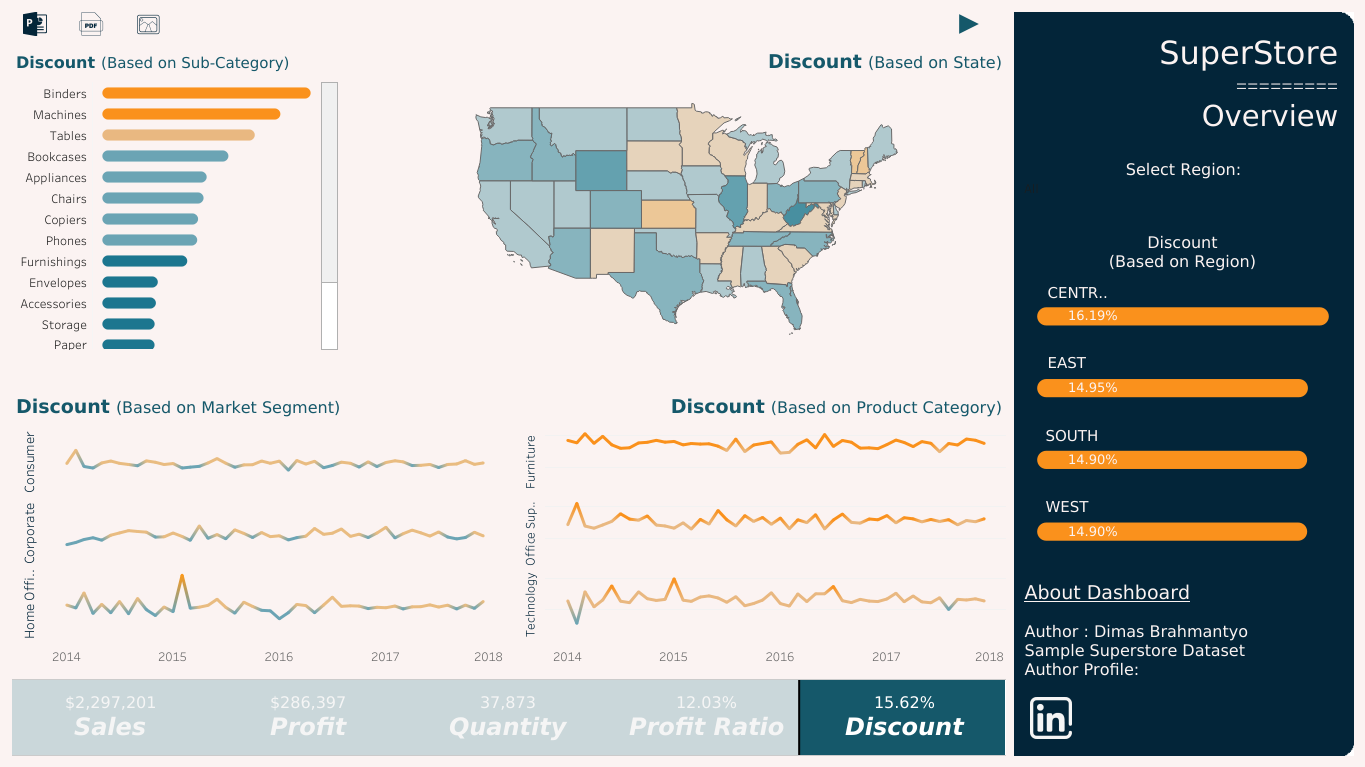

The page's visual inventory and layout, read from the dashboard file:
{"tool":"tableau","page":{"name":"Dashboard 1 - Overview","canvas":[1366,768],"ordinal":0},"visuals":[{"type":"dashboard-object","box":[8,8,54,32]},{"type":"dashboard-object","box":[62,8,60,32]},{"type":"dashboard-object","box":[122,8,53,32]},{"type":"worksheet","title":"Next","mark":"Shape","rows":["Calculation_132293265469534221"],"box":[928,8,82,32]},{"type":"image","param":"Image/2.png","box":[1010,8,348,752]},{"type":"text","box":[1025,21,316,125]},{"type":"worksheet","title":"Sub Category Chart","mark":"Line","rows":["Sub-Category"],"box":[8,40,334,313]},{"type":"worksheet","title":"Based on State Map Chart","mark":"Automatic","box":[374,40,636,313]},{"type":"filter","title":"Based on State Map Chart","param":"[federated.1u37z9d020ffhv1e04nla11qurtp].[a1. Select Region Set]","box":[1022,159,323,55]},{"type":"worksheet","title":"Region Button","mark":"Line","rows":["Region"],"box":[1023,227,319,340]},{"type":"text","box":[1045,278,66,30]},{"type":"text","box":[1045,348,100,30]},{"type":"worksheet","title":"Market Segment Chart","mark":"Automatic","rows":["Segment","Calculation_1180506078081609731"],"cols":["Order Date"],"box":[8,385,501,290]},{"type":"worksheet","title":"Product Category Chart","mark":"Automatic","rows":["Category","Calculation_1180506078081609731"],"cols":["Order Date"],"box":[509,385,501,290]},{"type":"text","box":[1043,421,100,30]},{"type":"text","box":[1043,492,100,30]},{"type":"text","box":[1022,577,272,106]},{"type":"worksheet","title":"Field Button","mark":"Shape","box":[8,675,1002,85]},{"type":"worksheet","title":"LinkedIn","mark":"Shape","rows":["Calculation_1125055507973922816"],"box":[1022,691,57,53]}]}

Visuals, with their boxes in screenshot pixels (x1, y1, x2, y2), scaled from the page's 1366x768 canvas onto the 1365x767 screenshot:
dashboard-object: box=[8, 8, 62, 40]
dashboard-object: box=[62, 8, 122, 40]
dashboard-object: box=[122, 8, 175, 40]
"Next" worksheet (Shape marks): box=[927, 8, 1009, 40]
image: box=[1009, 8, 1357, 759]
text: box=[1024, 21, 1340, 146]
"Sub Category Chart" worksheet (Line marks): box=[8, 40, 342, 353]
"Based on State Map Chart" worksheet: box=[374, 40, 1009, 353]
"Based on State Map Chart" filter: box=[1021, 159, 1344, 214]
"Region Button" worksheet (Line marks): box=[1022, 227, 1341, 566]
text: box=[1044, 278, 1110, 308]
text: box=[1044, 348, 1144, 378]
"Market Segment Chart" worksheet: box=[8, 384, 509, 674]
"Product Category Chart" worksheet: box=[509, 384, 1009, 674]
text: box=[1042, 420, 1142, 450]
text: box=[1042, 491, 1142, 521]
text: box=[1021, 576, 1293, 682]
"Field Button" worksheet (Shape marks): box=[8, 674, 1009, 759]
"LinkedIn" worksheet (Shape marks): box=[1021, 690, 1078, 743]
